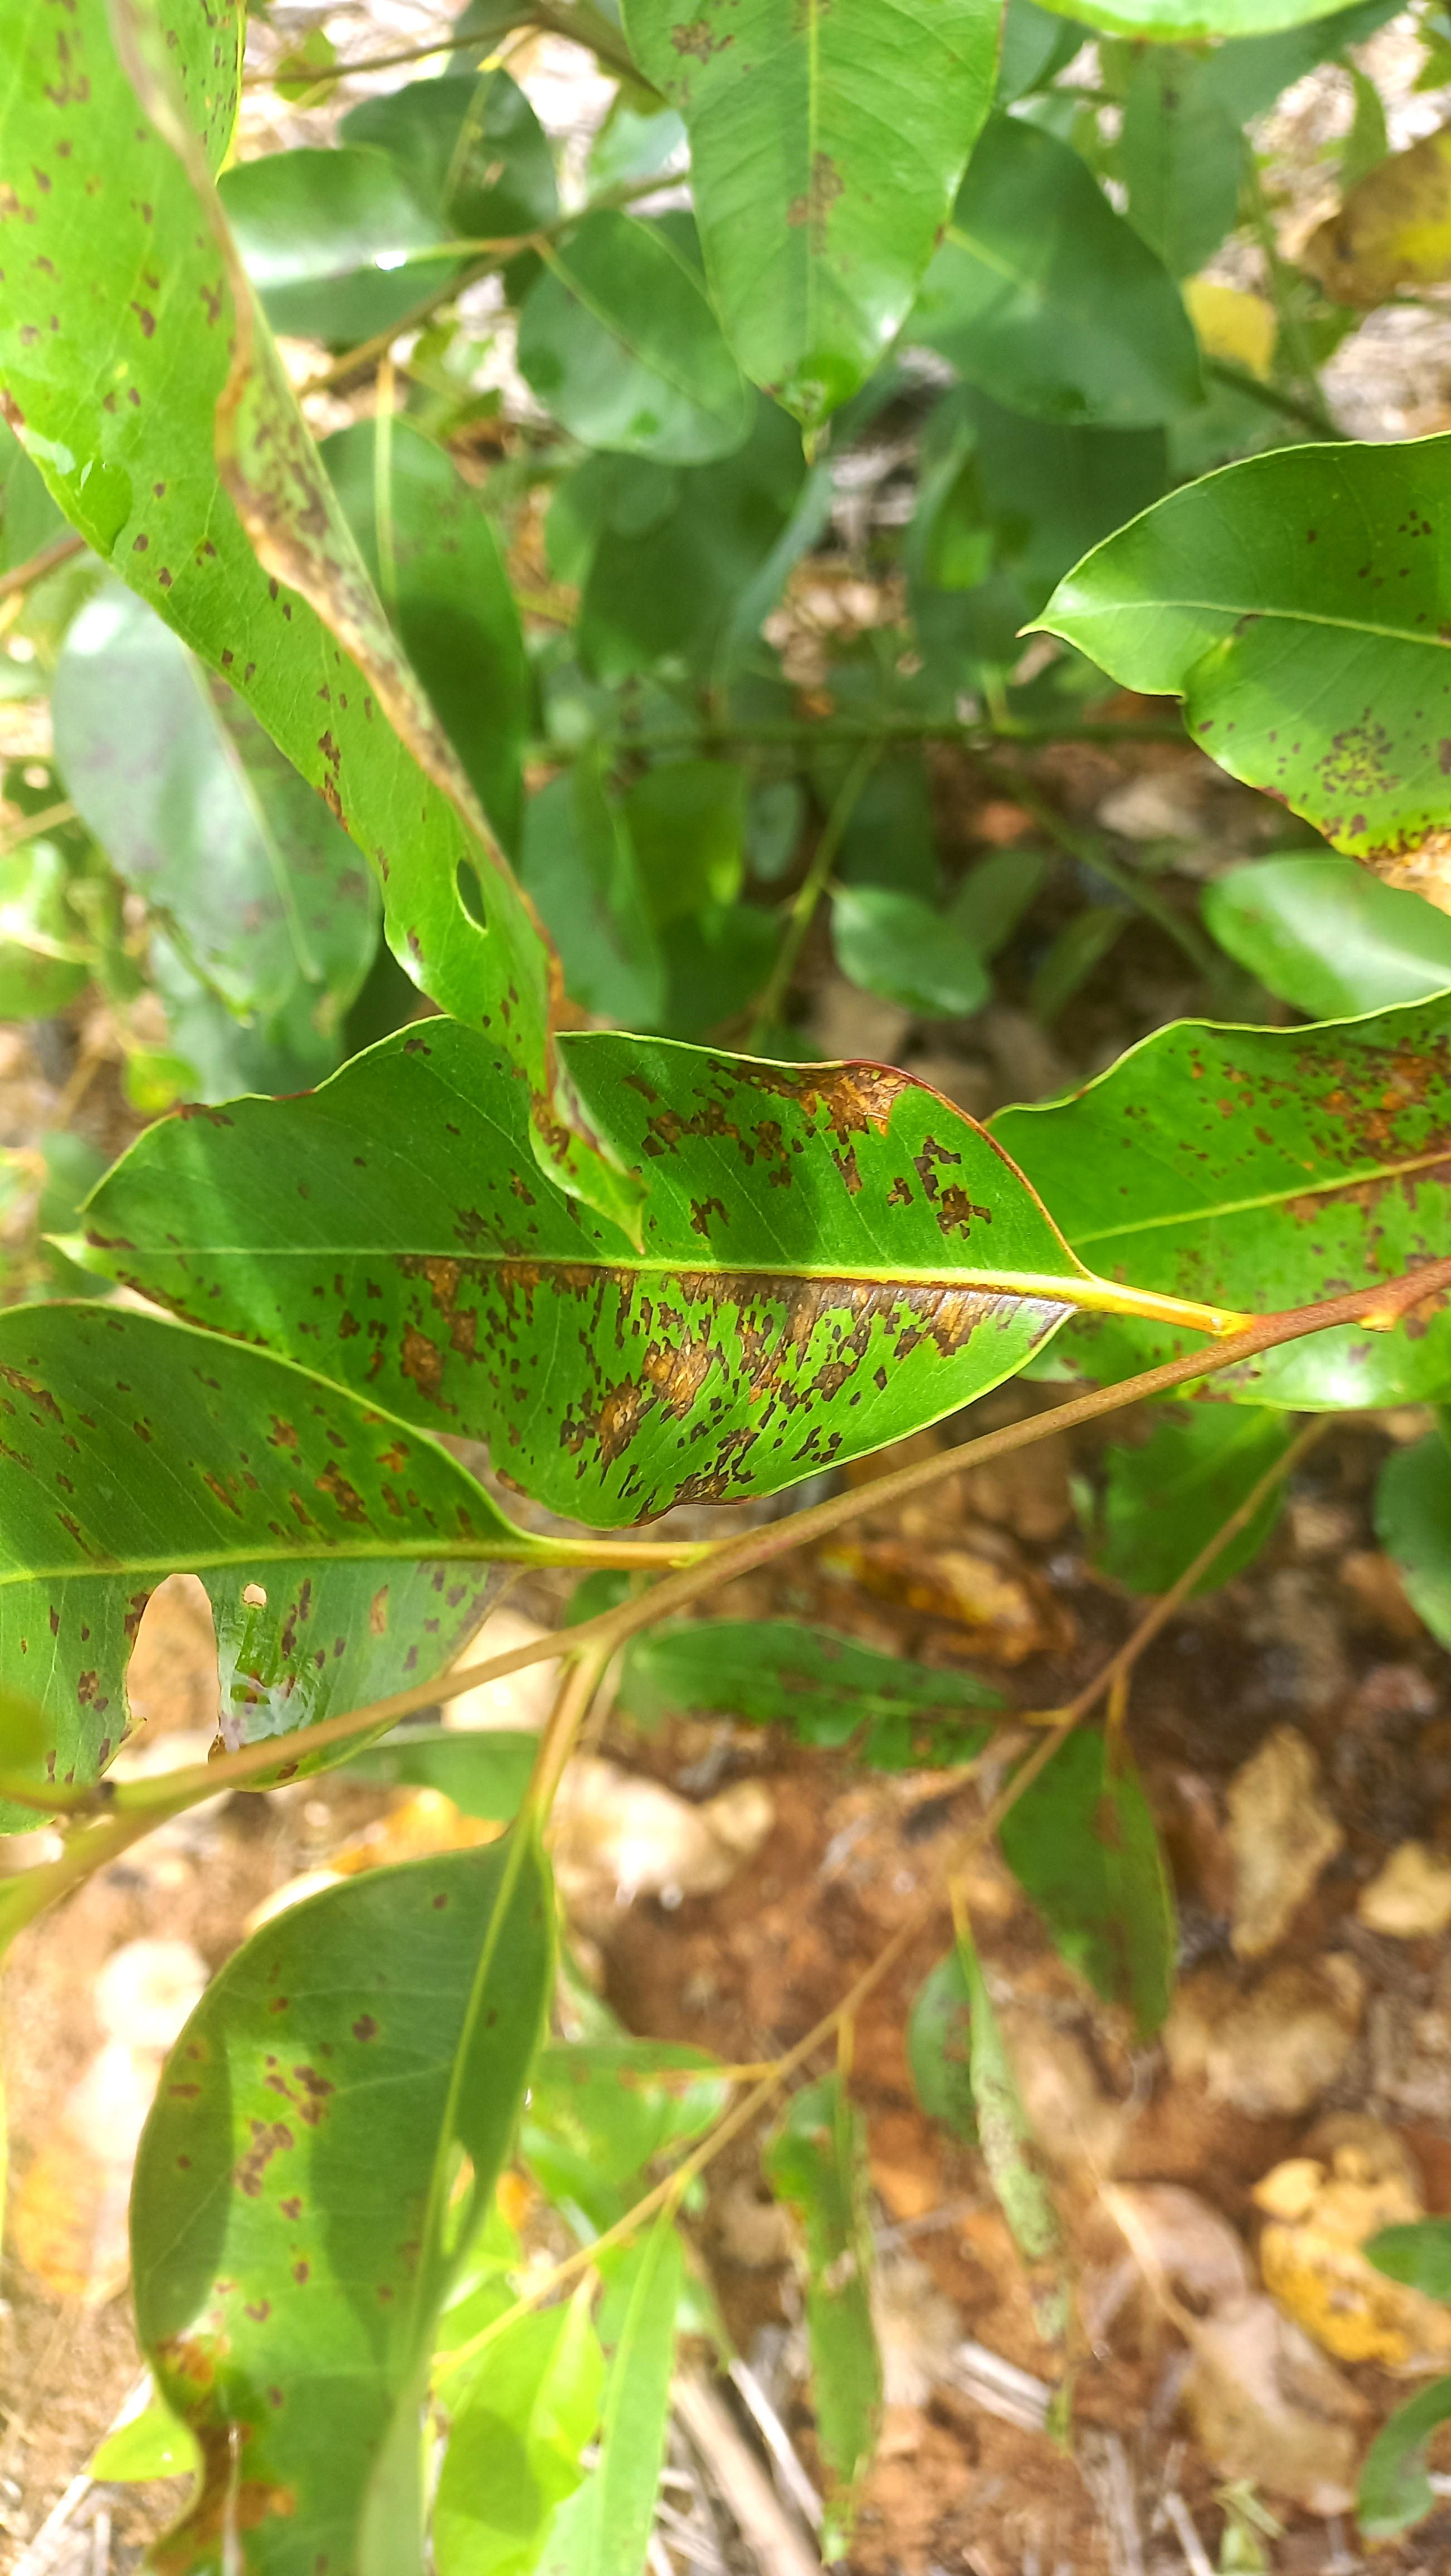Xanthomonas: (0, 0, 559, 1007), (85, 1031, 1076, 1493), (73, 1817, 564, 2576), (1021, 402, 1451, 904), (0, 1506, 480, 1801), (1161, 1026, 1451, 1403)
